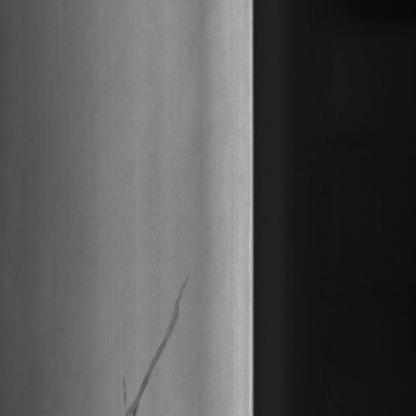water_spot: (107, 259, 195, 416)
